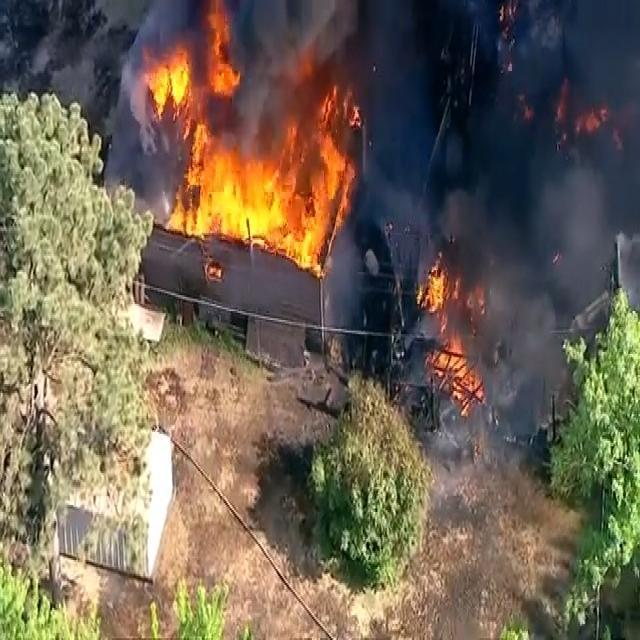Fire: (132, 0, 356, 267), (416, 256, 486, 418), (518, 71, 611, 148)
